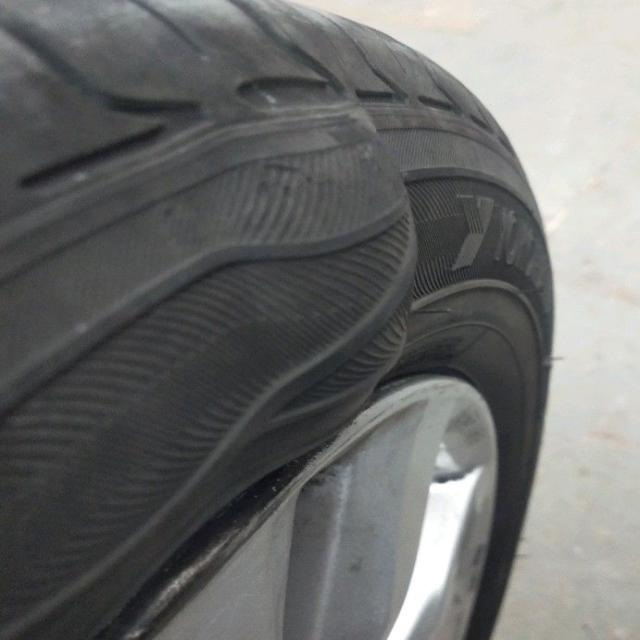Bulge: (220, 88, 428, 438)
